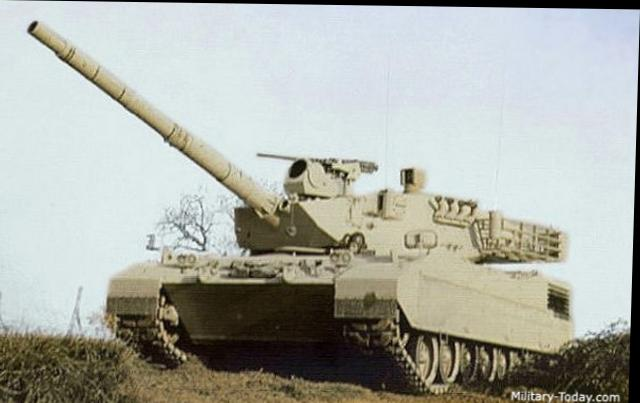tank: (96, 139, 610, 388)
